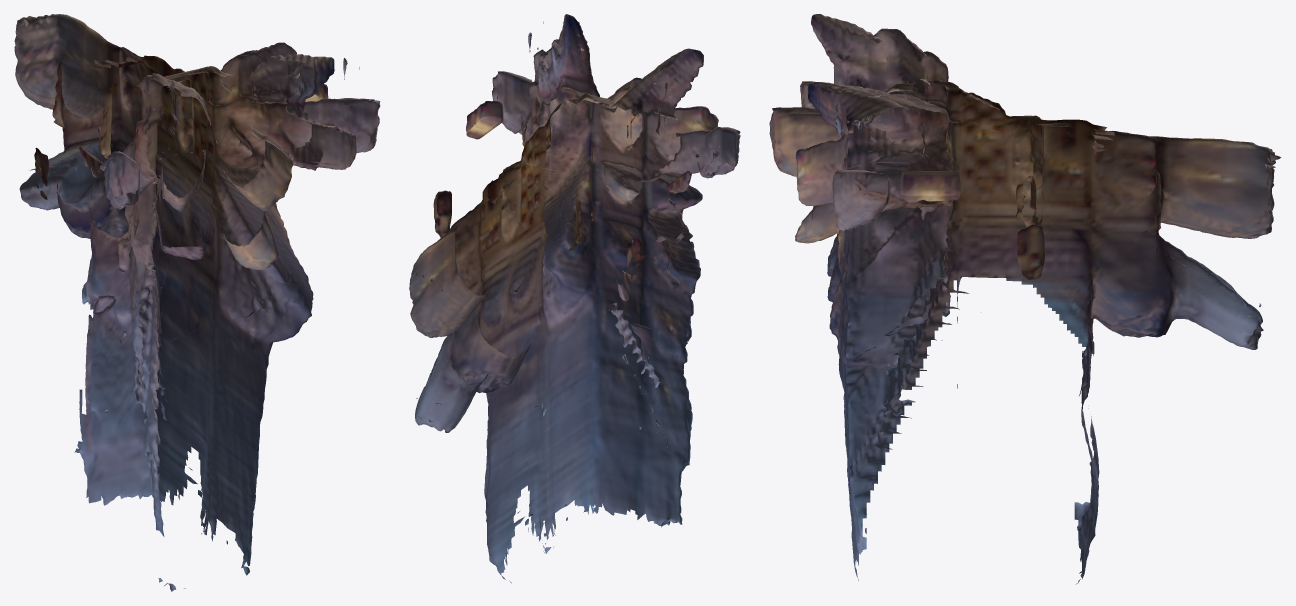
File: pageworld-grand-staircase-portraits-v20260502233230-4049cacd-collider.glb
The picture shows the model from 3 angles, left to right: view 1: azimuth 30°, elevation 25°; view 2: azimuth 150°, elevation 25°; view 3: azimuth 270°, elevation 25°; orthographic projection. The views are drawn at different scales.
Visible parts, largest first — view 1: world; view 2: world; view 3: world.
Boxes of the visible parts, x1,y1,x2,y2 form: world: (14,14,380,591); world: (409,14,740,583); world: (769,14,1281,584).
Size of the model in its own units: 9.82 by 17.77 by 15.49.
